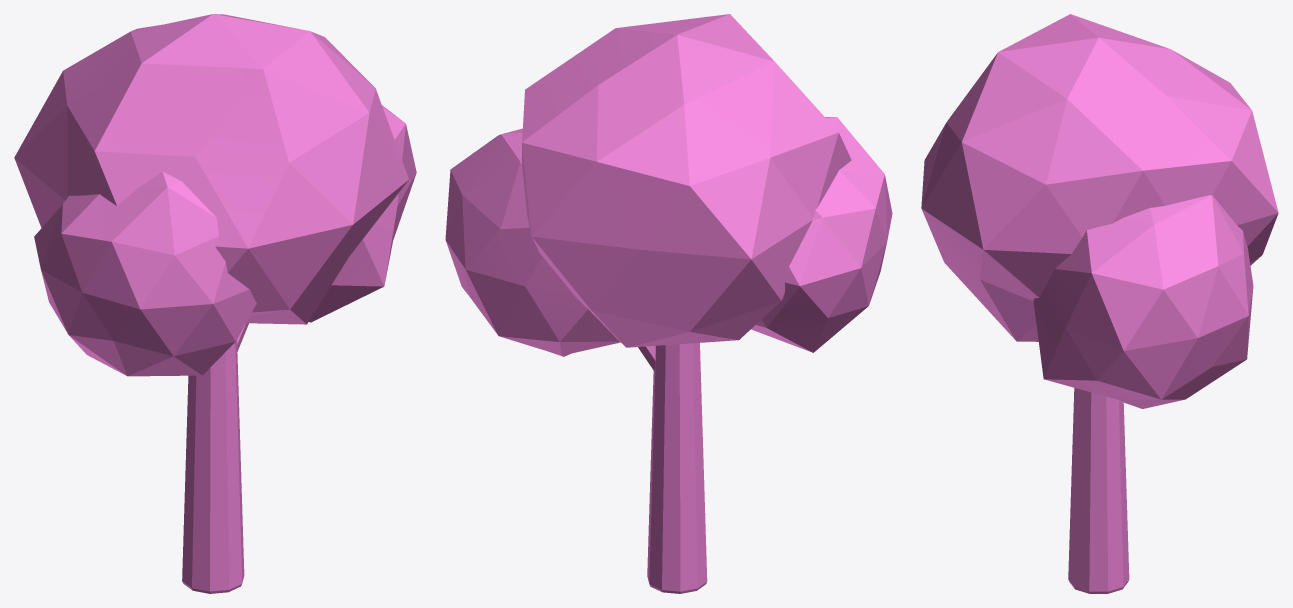
The model's file is Street_Tree.fbx.
3 renders of one model, left to right at view 1: azimuth 30°, elevation 25°; view 2: azimuth 150°, elevation 25°; view 3: azimuth 270°, elevation 25°, orthographic. The views are drawn at different scales.
Parts seen in each view (by area): view 1: Tree; view 2: Tree; view 3: Tree.
Part boxes in pixels (x1,y1,x2,y2): Tree: (14,14,416,593); Tree: (445,14,892,593); Tree: (921,14,1278,593).
Size of the model in its own units: 10.07 by 13.74 by 8.15.
Materials: 1 (1 with a texture image).
